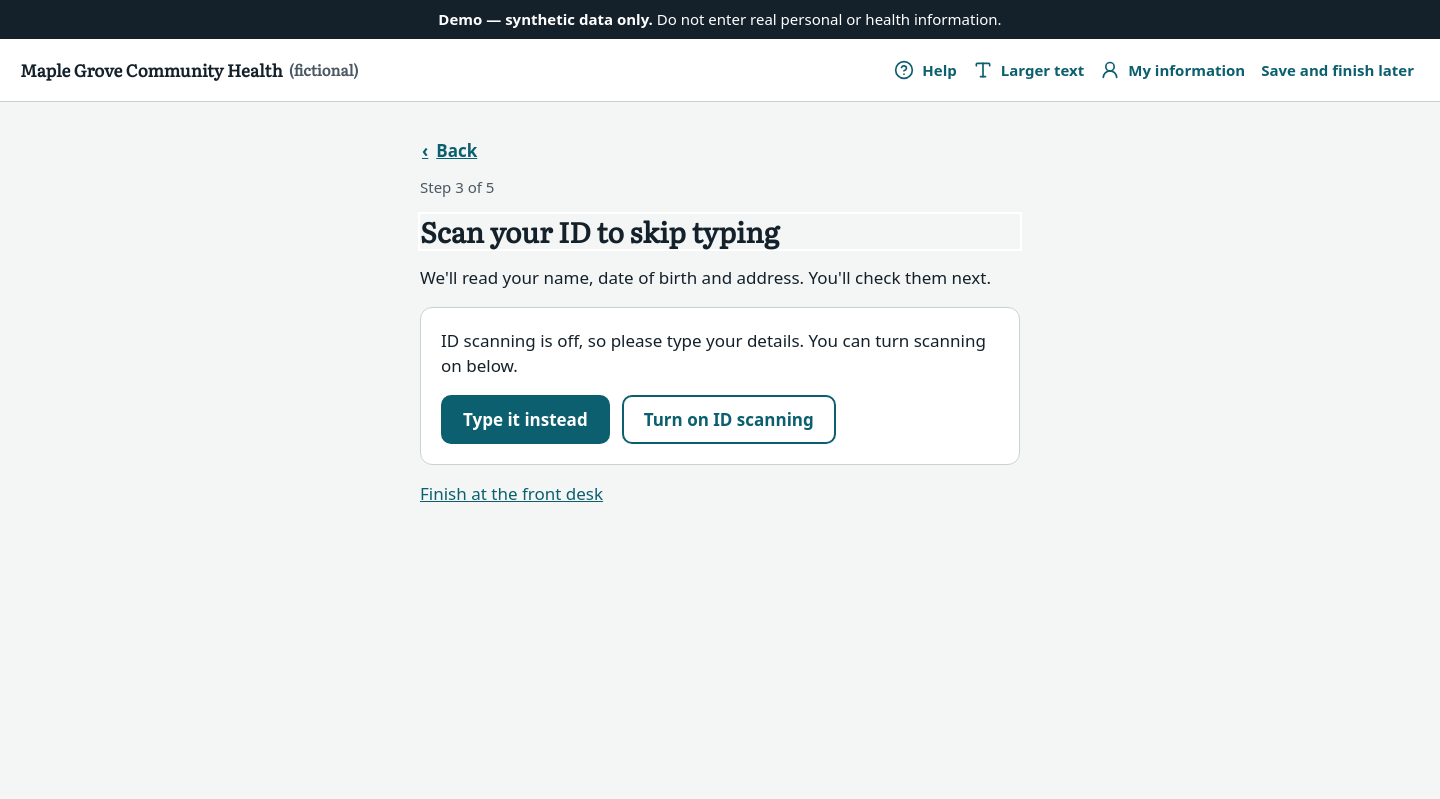
Test: without photo consent, ID scanning is offered as opt-in and typing works
Expected: the text "ID scanning is off" is shown, [441,328,986,377]
Click the button "Turn on ID scanning" at point(729, 419), box [622,394,836,444]
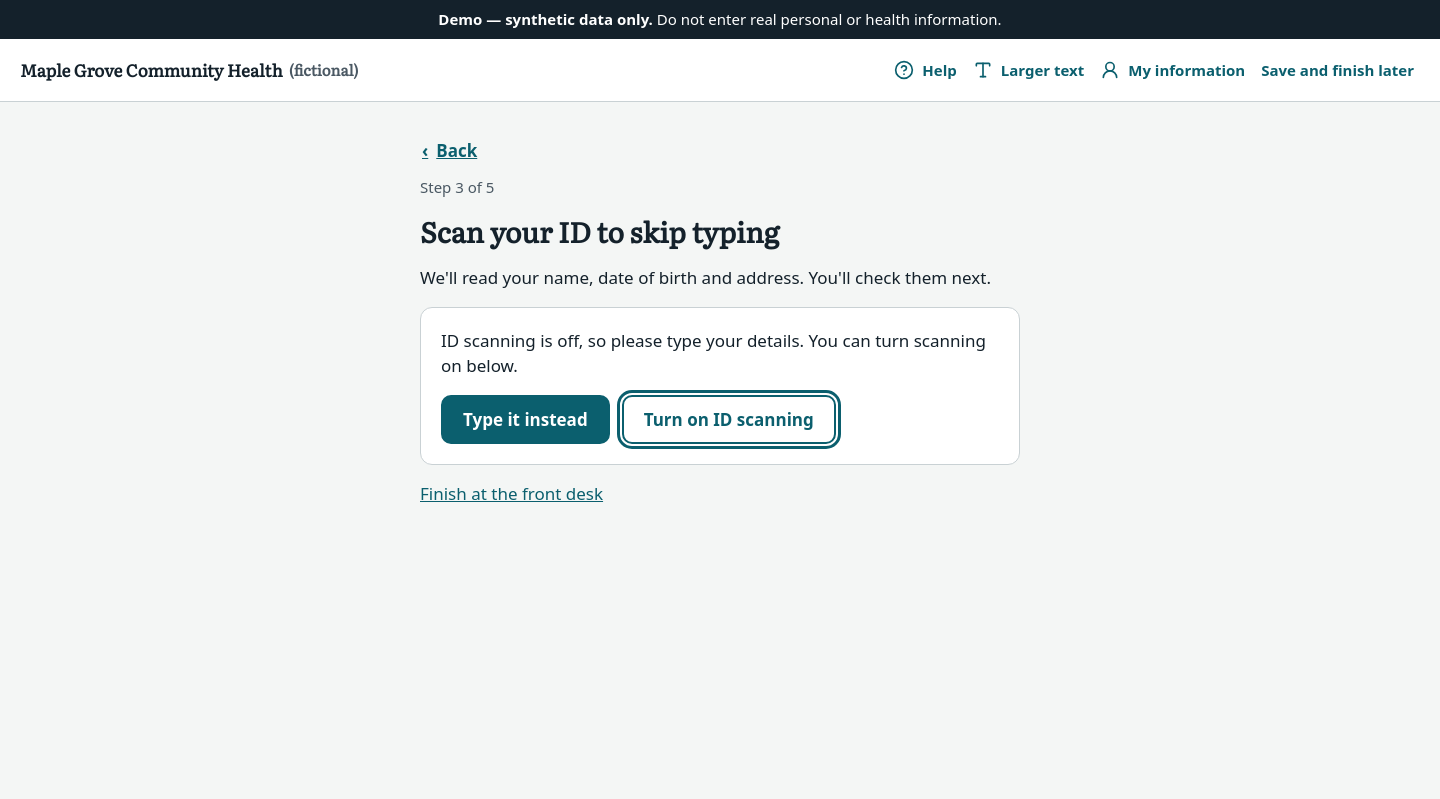
Click the button "Type it instead" at point(525, 419), box [441,394,610,444]
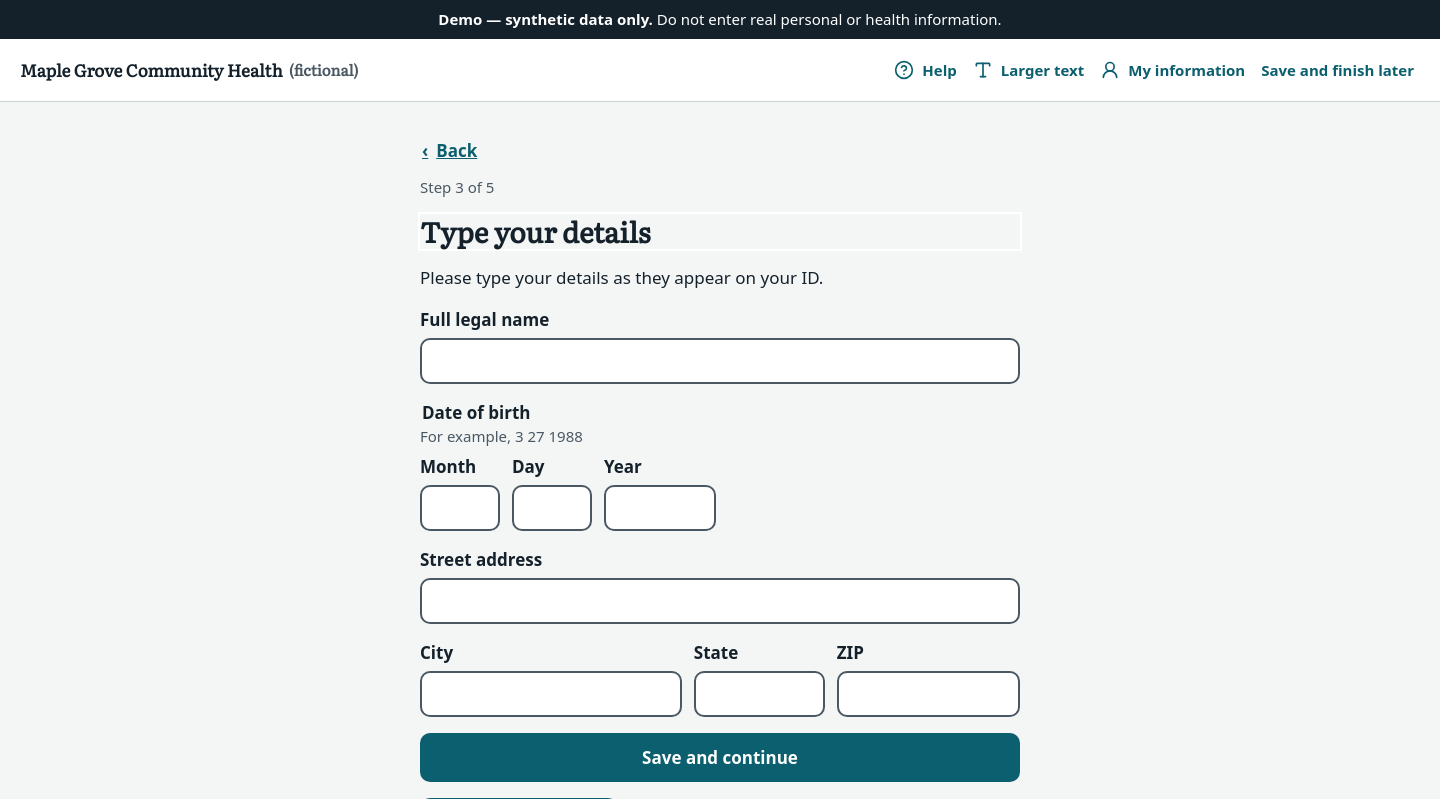
Expected: the heading "Type your details" is shown, [420,214,1020,249]
